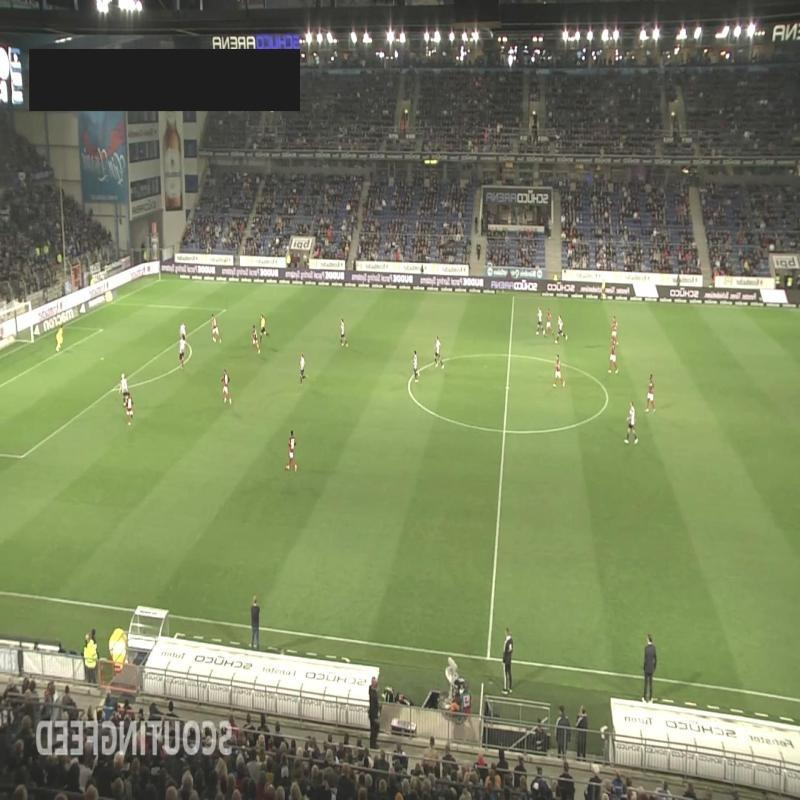1: (153, 271, 167, 285)
10: (174, 333, 188, 347)
11: (106, 382, 120, 396)
12: (14, 450, 29, 465)
13: (506, 286, 520, 300)
14: (502, 346, 516, 360)
15: (497, 422, 512, 436)
16: (480, 648, 497, 668)
2: (103, 297, 118, 311)
3: (55, 320, 70, 334)
7: (94, 322, 108, 336)
9: (218, 304, 232, 318)
c: (600, 391, 614, 405), (402, 375, 416, 389)
